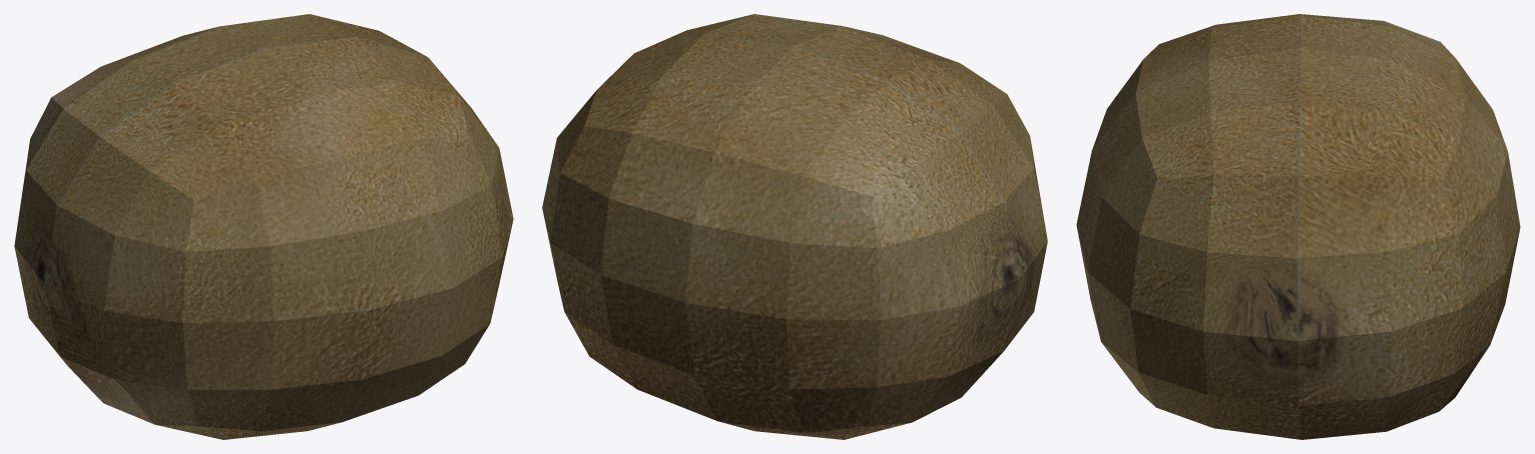
Rendered from kiwi.fbx.
The picture shows the model from 3 angles, left to right: view 1: azimuth 30°, elevation 25°; view 2: azimuth 150°, elevation 25°; view 3: azimuth 270°, elevation 25°; orthographic projection.
Visible parts, largest first — view 1: kiwi, kiwi_cell.003, kiwi_cell.004, kiwi_cell.001, kiwi_cell, kiwi_cell.002; view 2: kiwi, kiwi_cell, kiwi_cell.002, kiwi_cell.003, kiwi_cell.004; view 3: kiwi, kiwi_cell.001, kiwi_cell.002, kiwi_cell.003.
Boxes of the visible parts, bbox=[...] form: kiwi: bbox=[14, 14, 512, 439]; kiwi_cell.003: bbox=[67, 48, 468, 324]; kiwi_cell.004: bbox=[24, 253, 416, 439]; kiwi_cell.001: bbox=[396, 96, 513, 403]; kiwi_cell: bbox=[14, 87, 117, 282]; kiwi_cell.002: bbox=[310, 14, 426, 56]; kiwi: bbox=[542, 14, 1033, 433]; kiwi_cell: bbox=[692, 107, 1019, 421]; kiwi_cell.002: bbox=[550, 34, 734, 421]; kiwi_cell.003: bbox=[795, 26, 1041, 229]; kiwi_cell.004: bbox=[725, 198, 1047, 439]; kiwi: bbox=[1076, 14, 1520, 439]; kiwi_cell.001: bbox=[1086, 176, 1462, 439]; kiwi_cell.002: bbox=[1250, 101, 1520, 383]; kiwi_cell.003: bbox=[1076, 14, 1307, 276].
Bounding box in the file's own units: 0.7942 × 0.6171 × 0.6845.
